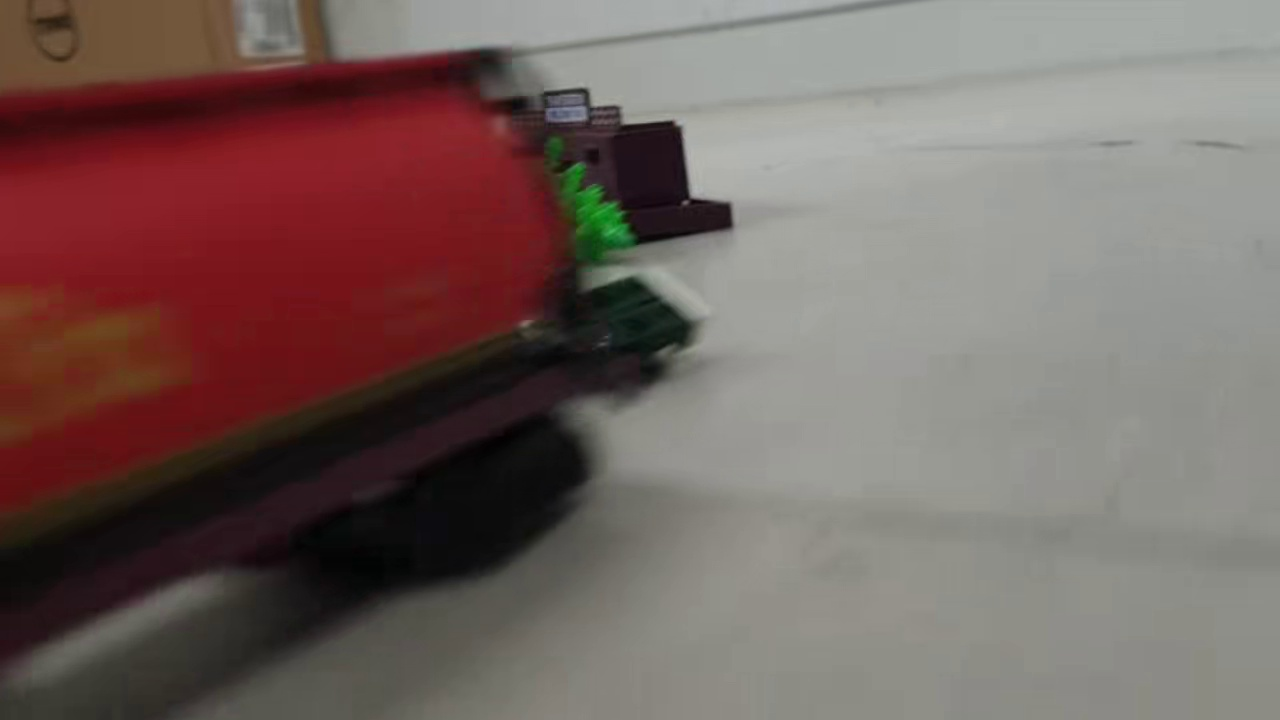people: (564, 262, 717, 407)
tree: (528, 135, 635, 269)
